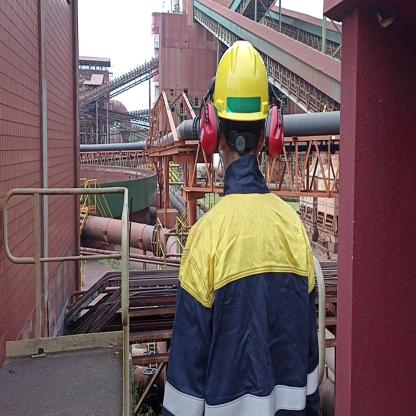C_eletrica: (176, 195, 325, 416)
Capacete: (207, 39, 278, 126)
